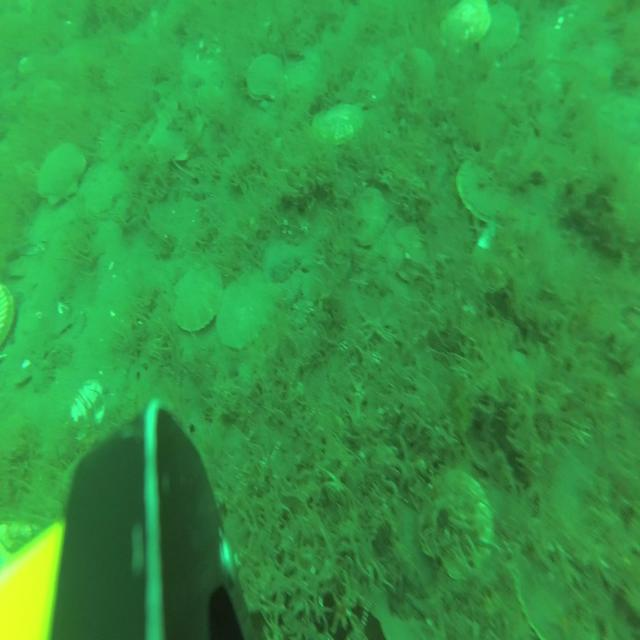scallop: (420, 472, 491, 582), (513, 558, 595, 640), (456, 154, 524, 226), (218, 276, 270, 351), (147, 96, 200, 164), (175, 262, 221, 331), (38, 142, 86, 204), (308, 98, 362, 145), (439, 0, 488, 47), (479, 0, 518, 57), (390, 45, 433, 93), (354, 182, 386, 246), (245, 51, 281, 97), (73, 380, 104, 432), (0, 283, 15, 355)
